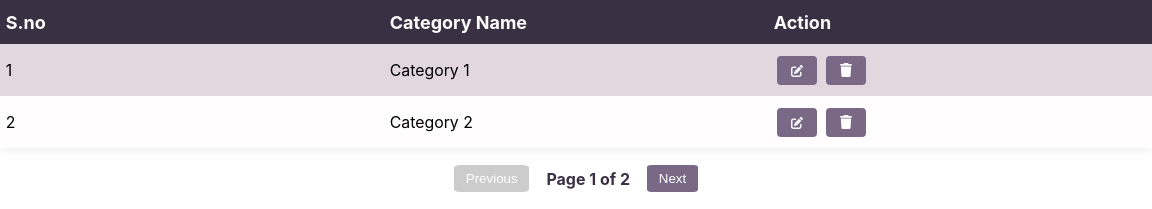
Test case: CategoryTable Component › should handle pagination next and previous buttons
The width and height of the screenshot is (1152, 209).
Check: the button "Previous" is disabled, box [454,165,529,192]
Click the button "Next": click(672, 179) [647,165,698,192]
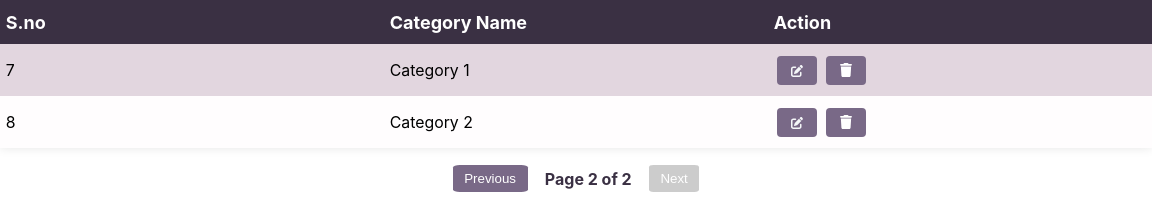
Check: the button "Previous" is enabled, box [453,165,528,192]
Check: the button "Next" is disabled, box [649,165,699,192]
